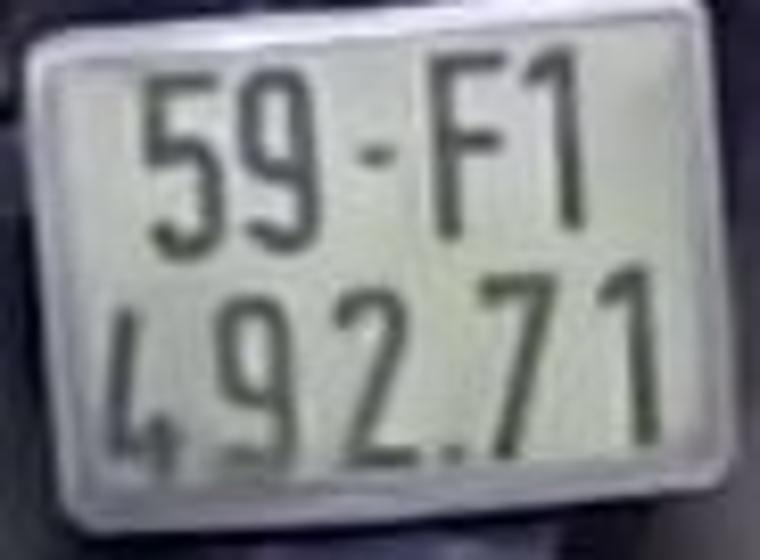-: (354, 143, 390, 163)
.: (440, 446, 465, 468)
1: (595, 262, 660, 451), (527, 47, 591, 231)
2: (333, 289, 422, 470)
4: (103, 315, 185, 486)
5: (141, 71, 225, 260)
7: (475, 273, 558, 467)
9: (243, 66, 319, 255), (222, 294, 299, 472)
F: (425, 50, 509, 240)
